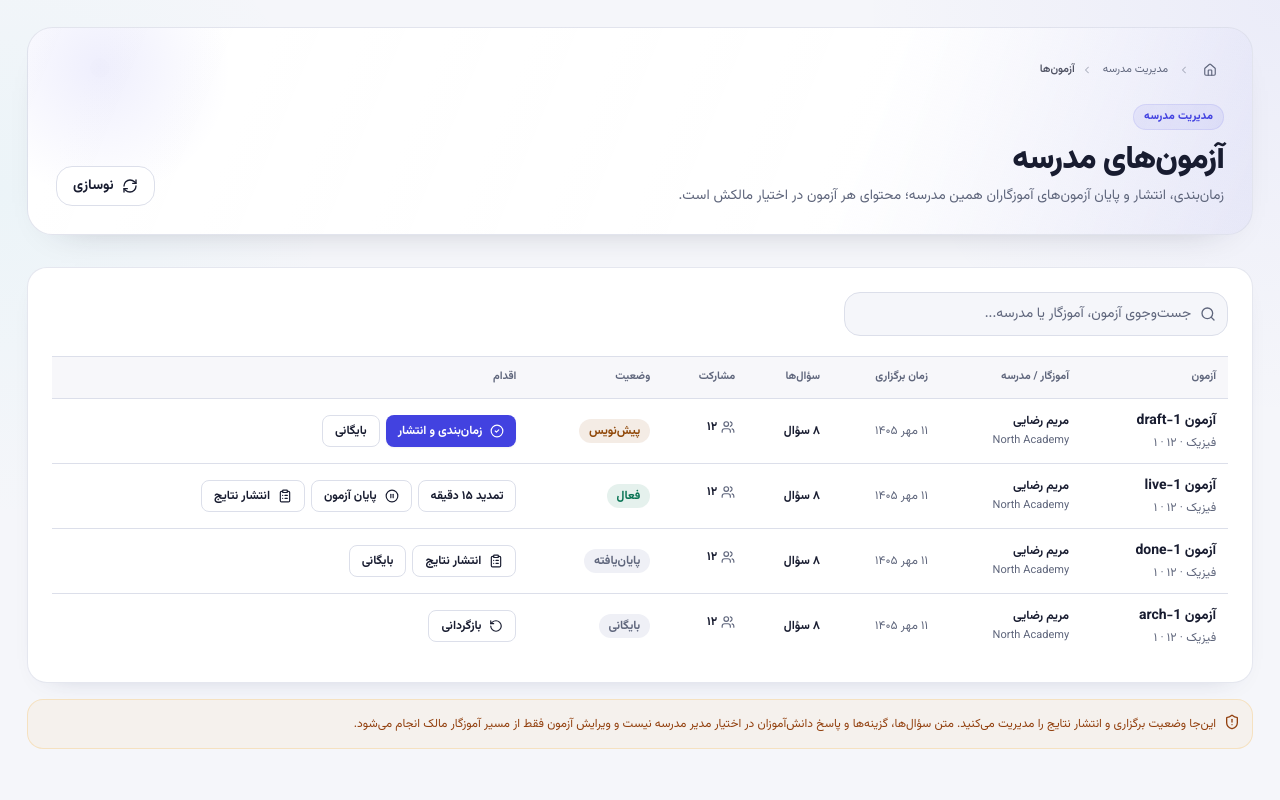
admin exam lifecycle › reports what publishing results actually released, including what is still pending
Click the button "انتشار نتایج" in the row of "آزمون done-1" at (464, 561), box [412,545,516,577]
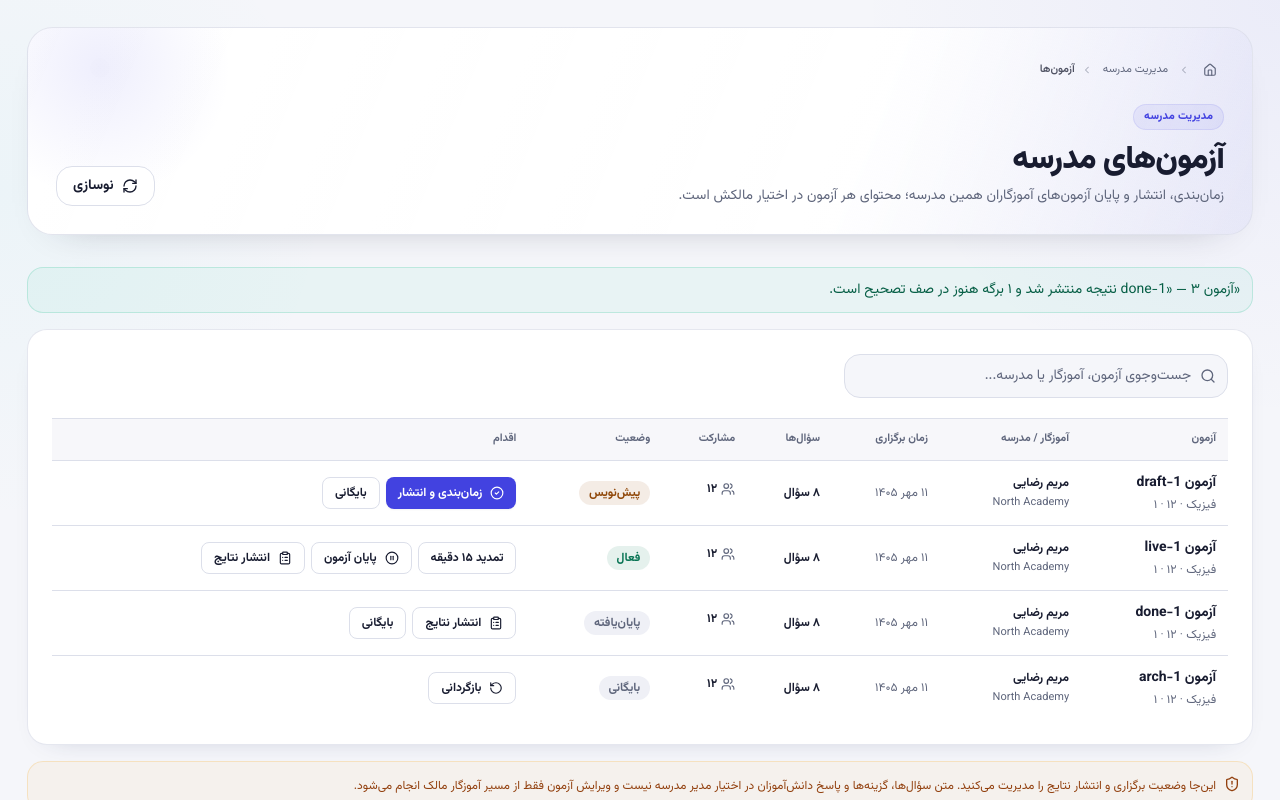
Result: the text "نتیجه منتشر شد" shows "۳" at [829,279,1240,301]
Result: the text "نتیجه منتشر شد" shows "۱ برگه هنوز در صف تصحیح است" at [829,279,1240,301]
